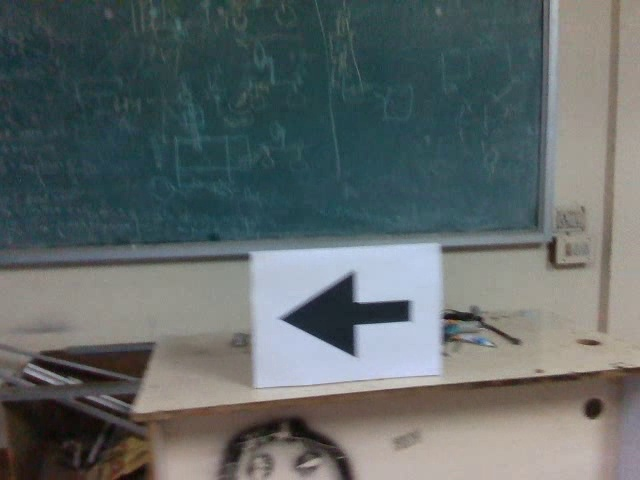Left: (269, 268, 416, 360)
